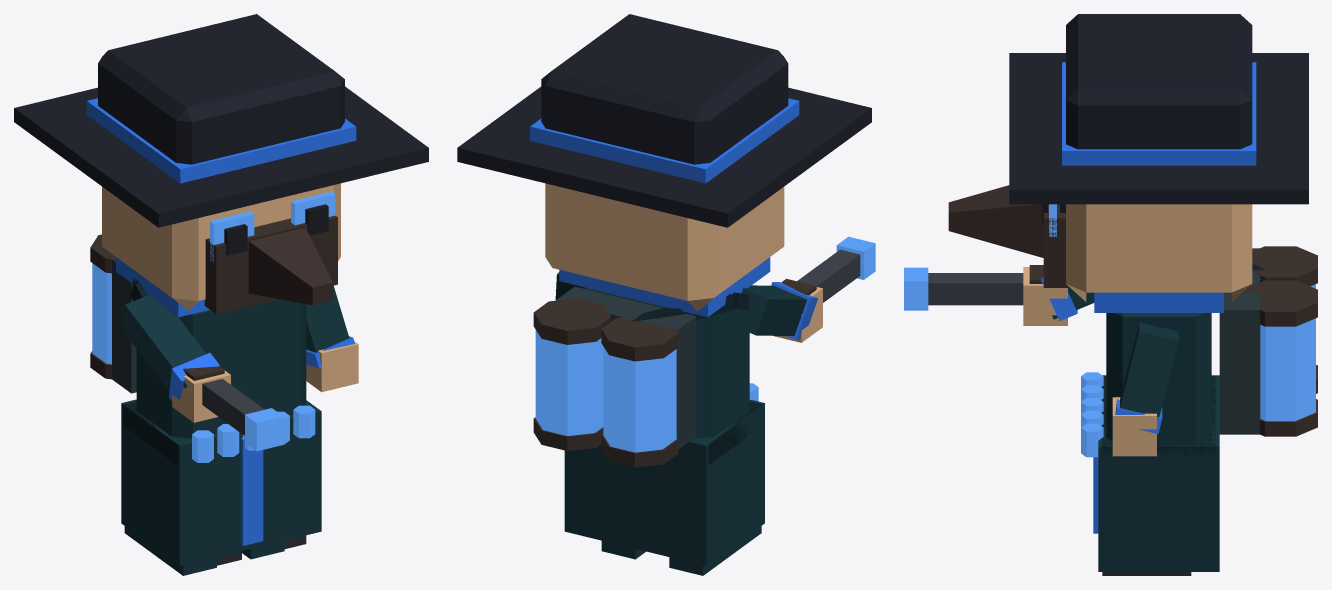
Rendered from weakener_super_rare.glb.
The picture shows the model from 3 angles, left to right: view 1: azimuth 30°, elevation 25°; view 2: azimuth 150°, elevation 25°; view 3: azimuth 270°, elevation 25°; orthographic projection. The views are drawn at different scales.
Parts seen in each view (by area): view 1: weakener_super_rare_mesh; view 2: weakener_super_rare_mesh; view 3: weakener_super_rare_mesh.
Boxes of the visible parts, left/top/right/bottom form: weakener_super_rare_mesh: left=14, top=14, right=428, bottom=575; weakener_super_rare_mesh: left=457, top=14, right=875, bottom=575; weakener_super_rare_mesh: left=904, top=14, right=1317, bottom=575.
Bounding box in the file's own units: 0.7704 × 1.3 × 0.9845.
Materials: 2 (2 with a texture image).
